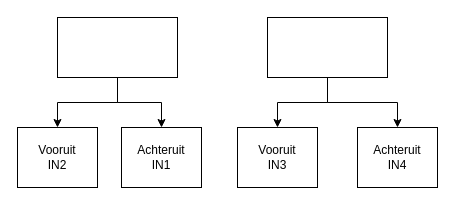
The diagram is 455 pixels wide and 205 high, and some of its shapes have lost their labels. Each missing label, with the box of its shape:
Left motor ENA: (56, 16, 178, 78)
Right motor ENB: (266, 16, 388, 78)
